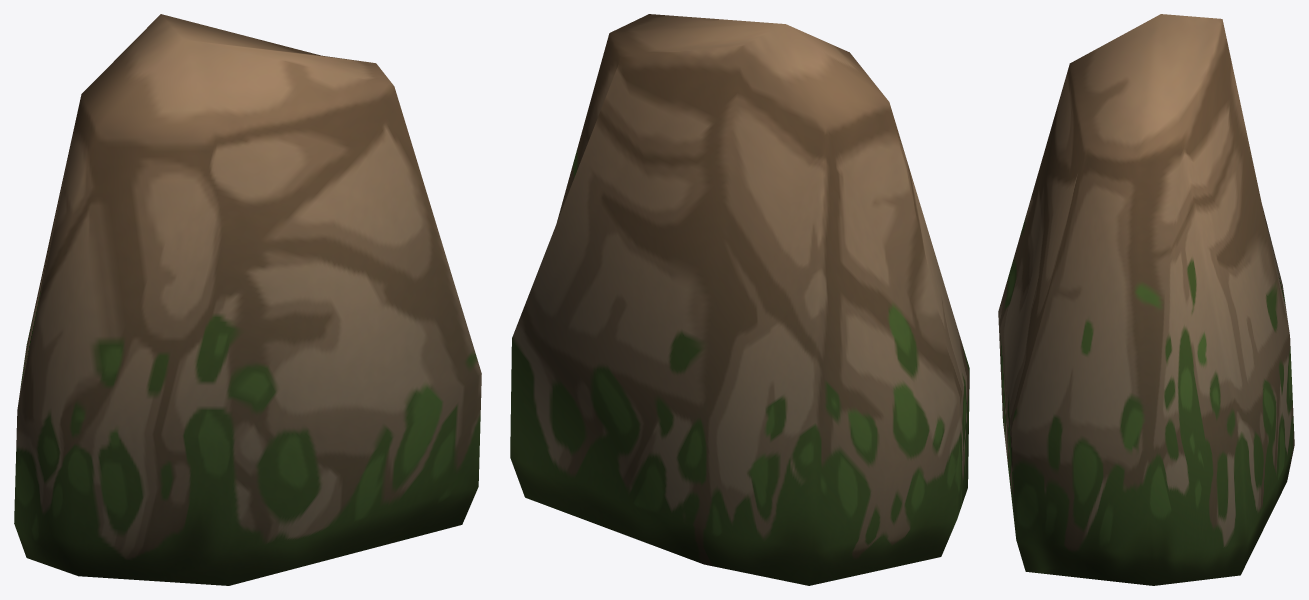
The model's file is LakeRock_04.FBX.
The picture shows the model from 3 angles, left to right: view 1: azimuth 30°, elevation 25°; view 2: azimuth 150°, elevation 25°; view 3: azimuth 270°, elevation 25°; orthographic projection. The views are drawn at different scales.
Parts seen in each view (by area): view 1: Object1192; view 2: Object1192; view 3: Object1192.
Part boxes in pixels (x1,y1,x2,y2): Object1192: (14, 14, 481, 585); Object1192: (510, 14, 969, 585); Object1192: (998, 14, 1294, 585).
Size of the model in its own units: 36.74 by 40.6 by 23.61.
